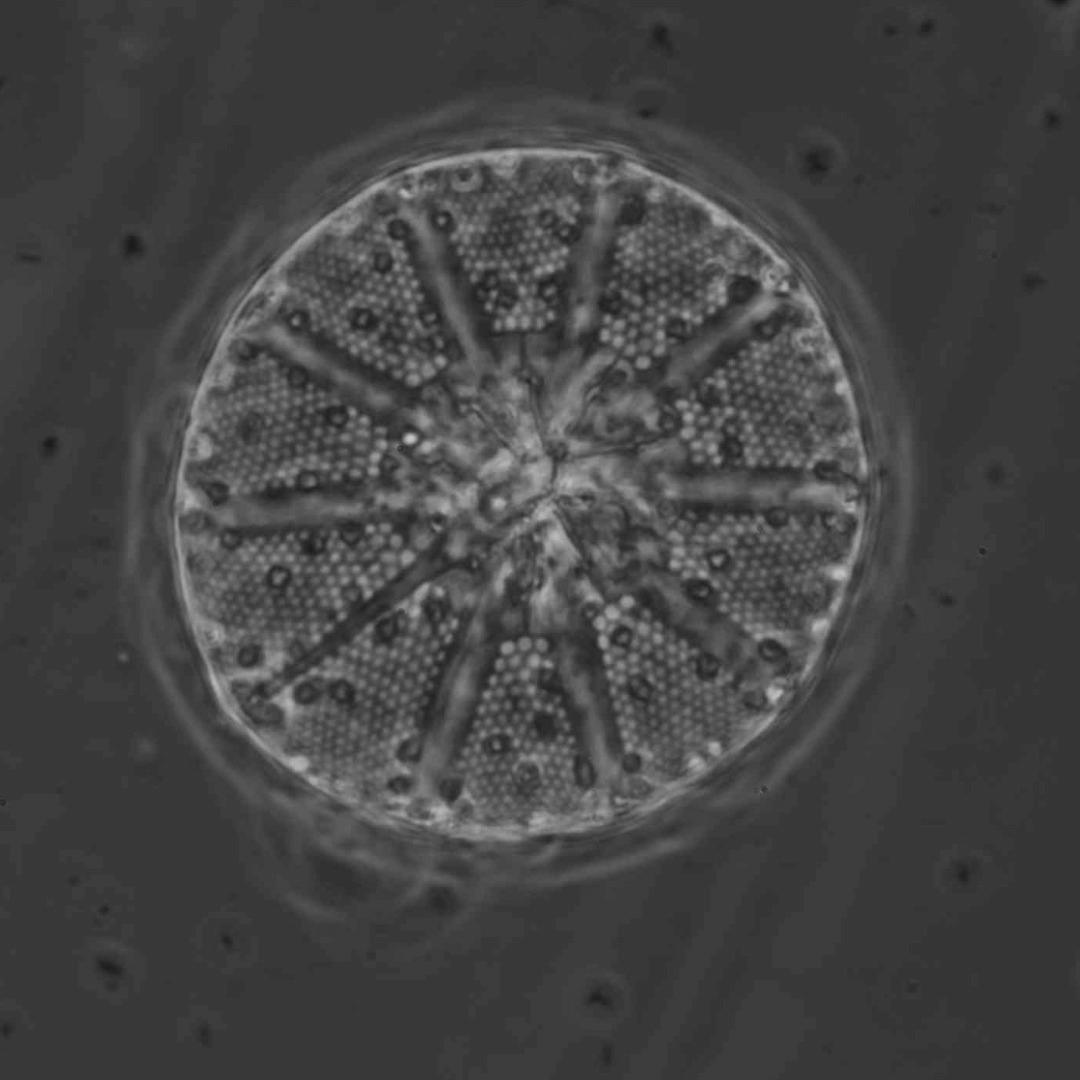asteromphalus_hyalinus: (175, 144, 871, 834)
